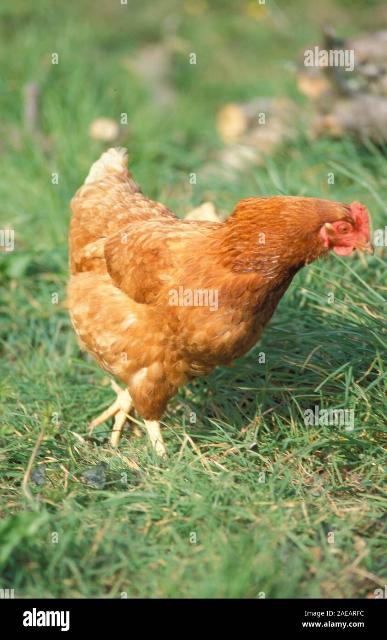Chicken: (67, 146, 373, 451)
